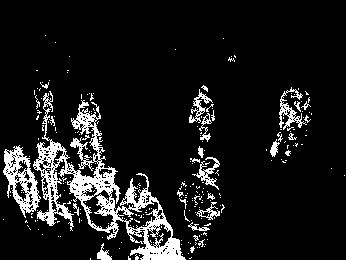person: (75, 164, 119, 257), (177, 157, 220, 250), (36, 133, 69, 226), (121, 173, 159, 249), (70, 91, 109, 164), (5, 143, 39, 221), (190, 84, 216, 157), (271, 88, 297, 159), (290, 93, 315, 164), (35, 77, 57, 133)
